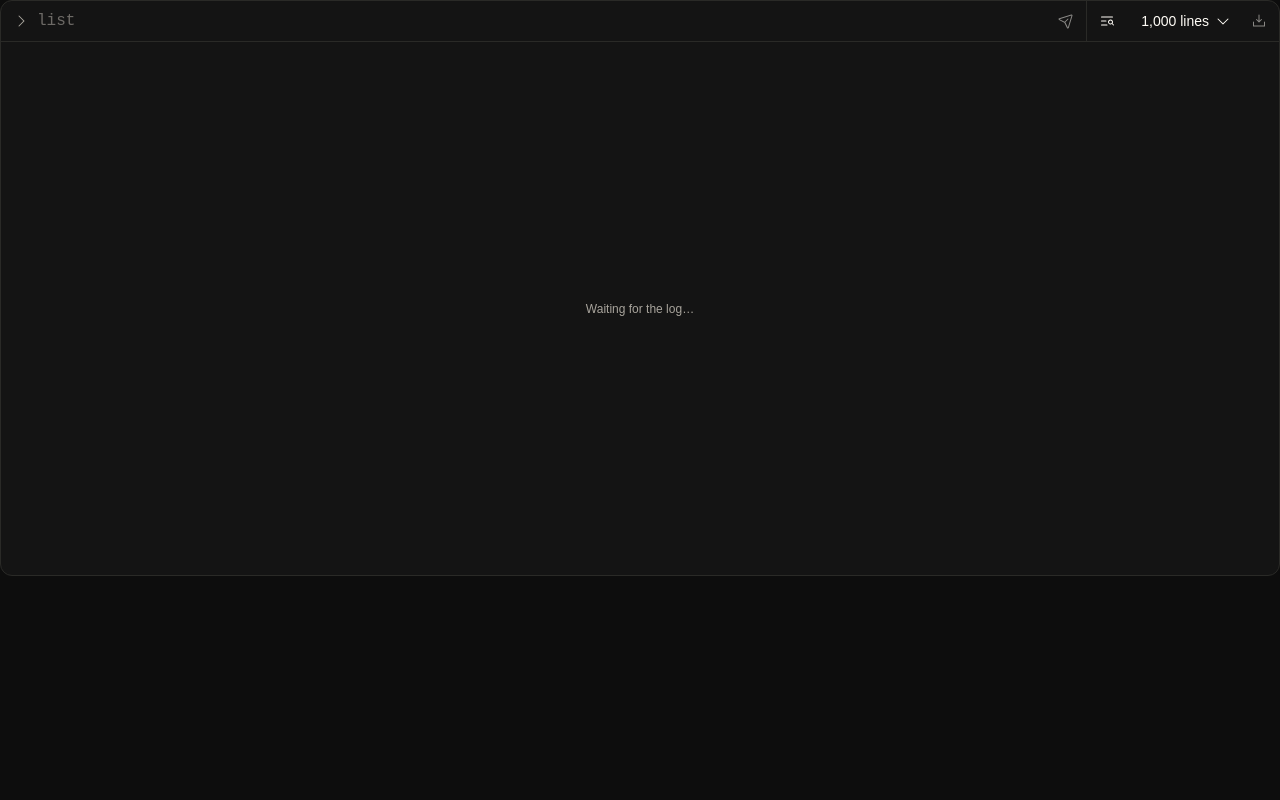
Scenario: ServiceConsole › suggests from the server's own tree as a word is typed, and a tap or Tab takes it
Type "gi" into the dropdown named "Send a line to the server console".
click(540, 21); type("gi")  # box x1=37 y1=5 x2=1042 y2=37
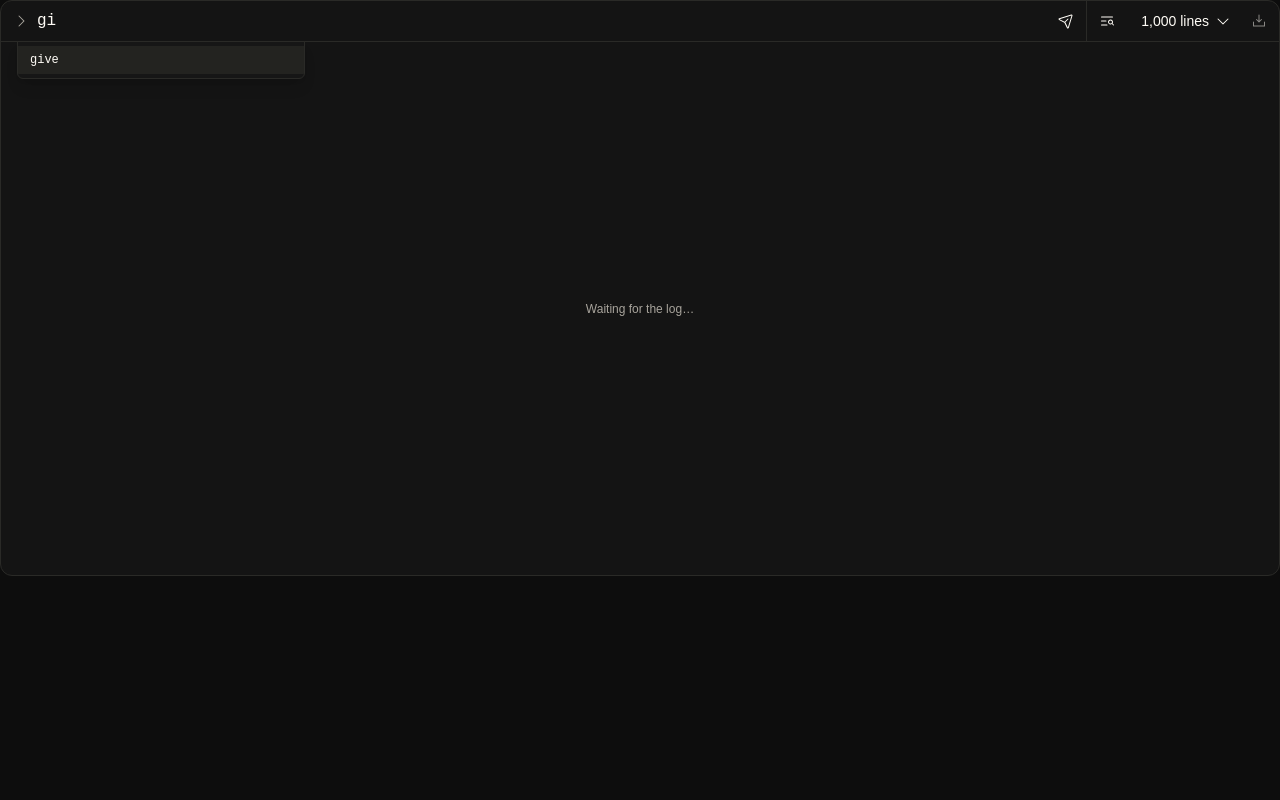
Click the option "give".
click(44, 60)  # box x1=18 y1=46 x2=304 y2=74
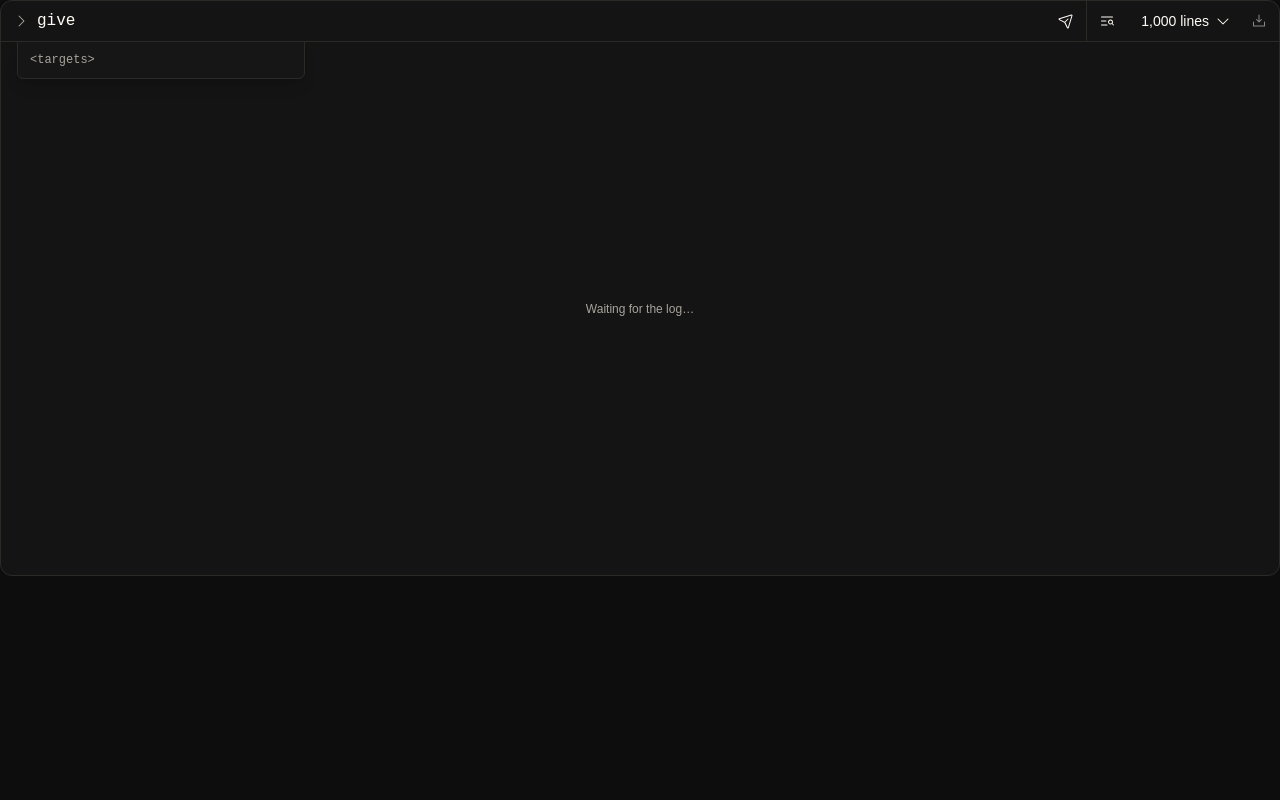
Expected: the dropdown named "Send a line to the server console" holds "give "
Replace the text in the dropdown named "Send a line to the server console" with "execute r" at (540, 21), box x1=37 y1=5 x2=1042 y2=37
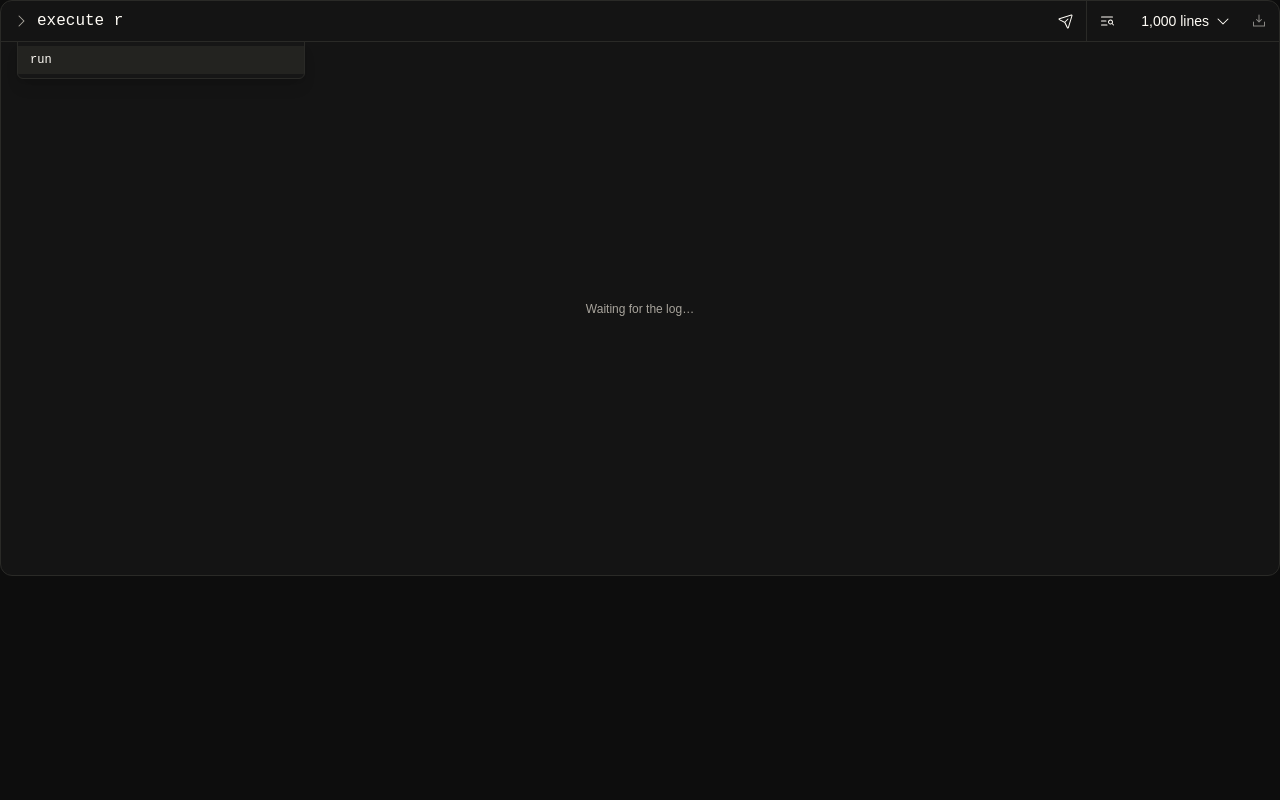
Press Tab in the dropdown named "Send a line to the server console", box x1=37 y1=5 x2=1042 y2=37
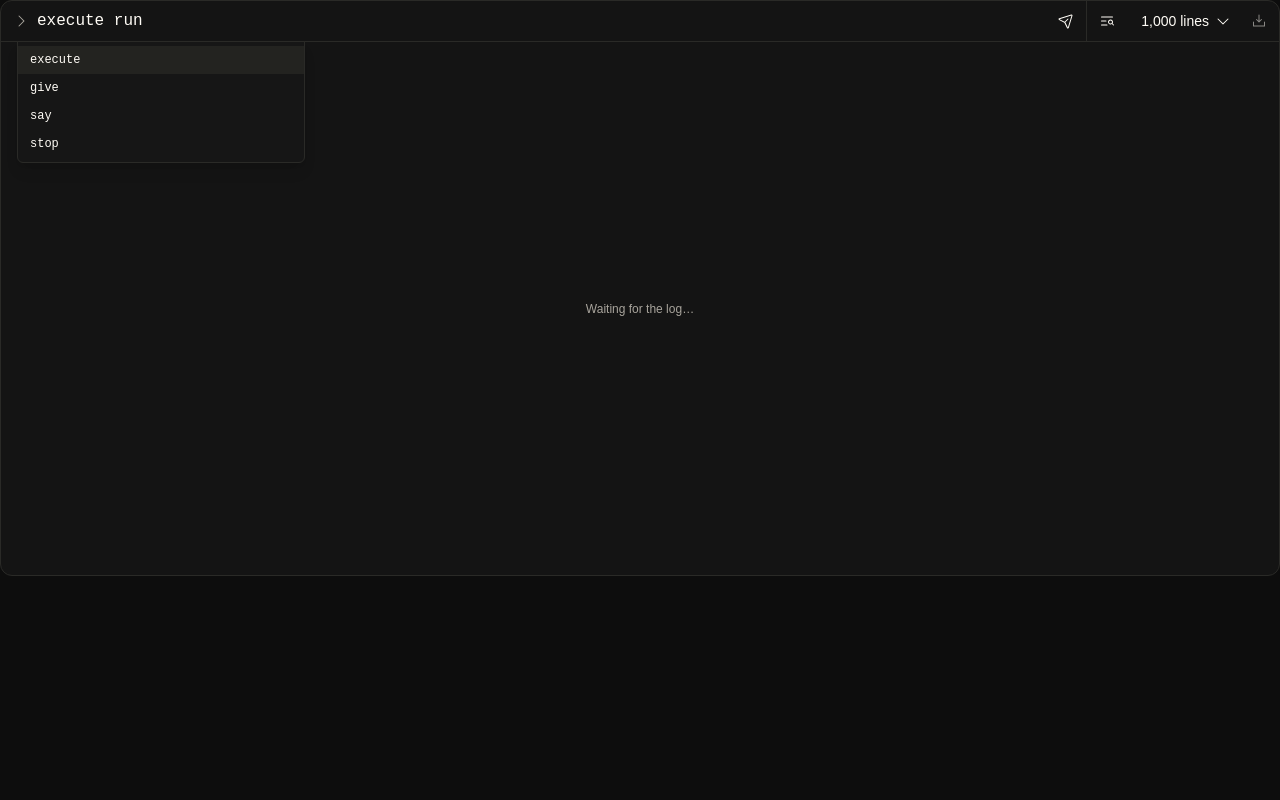
Expected: the dropdown named "Send a line to the server console" holds "execute run "
Replace the text in the dropdown named "Send a line to the server console" with "execute run st" at (540, 21), box x1=37 y1=5 x2=1042 y2=37
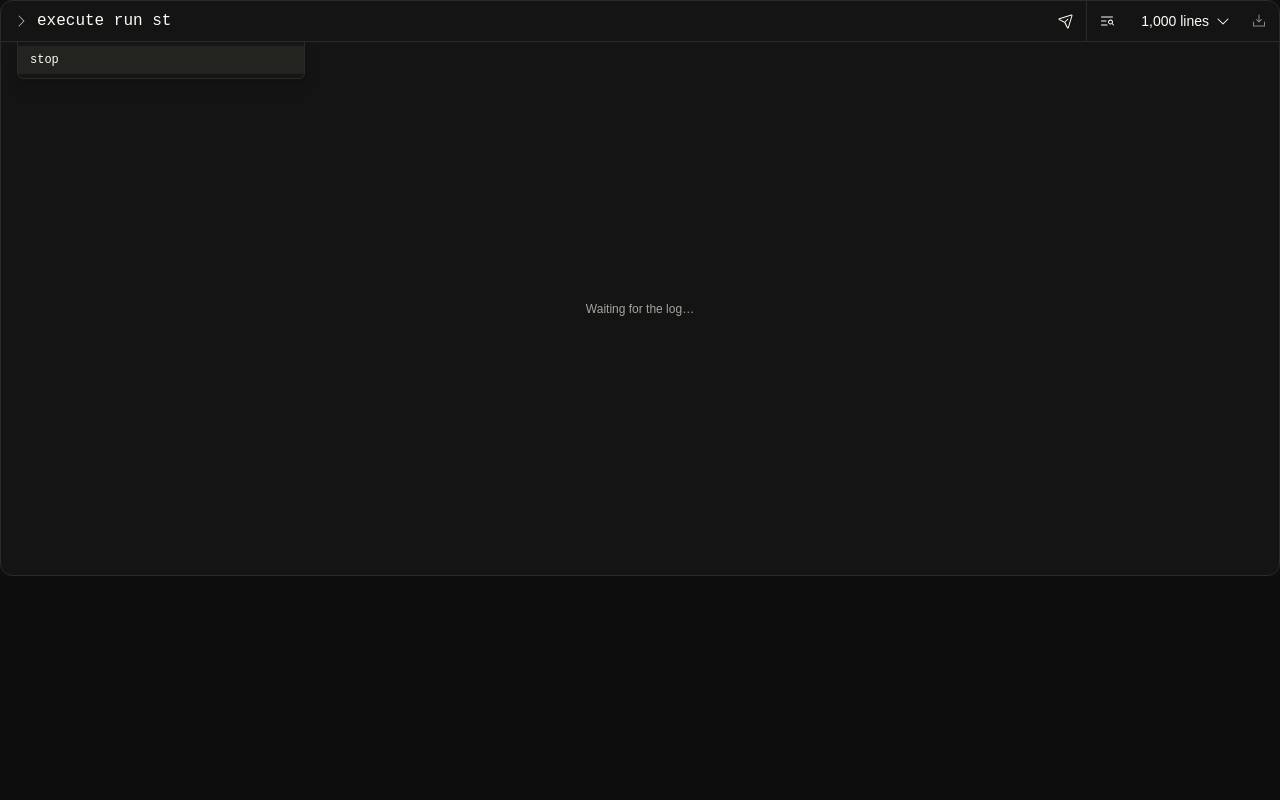
Press Tab in the dropdown named "Send a line to the server console", box x1=37 y1=5 x2=1042 y2=37
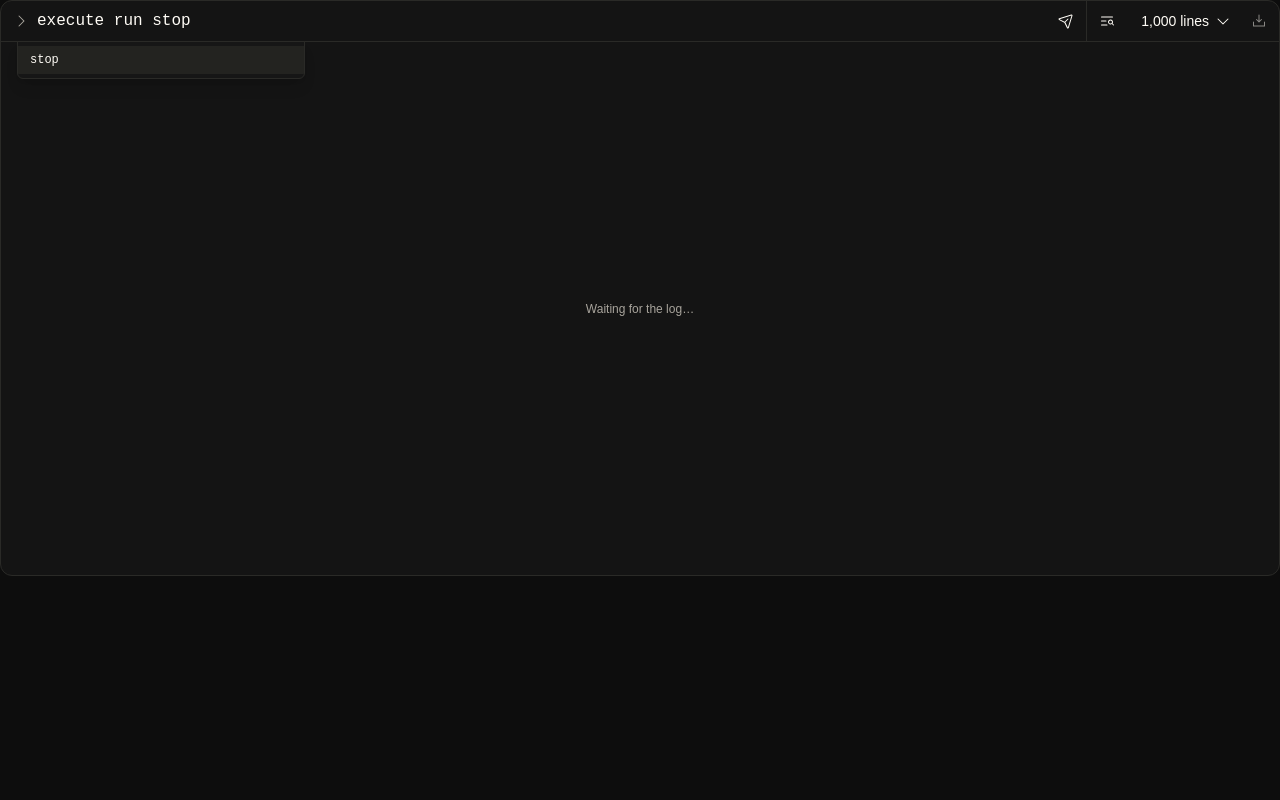
Expected: the dropdown named "Send a line to the server console" holds "execute run stop", x1=37 y1=5 x2=1042 y2=37
